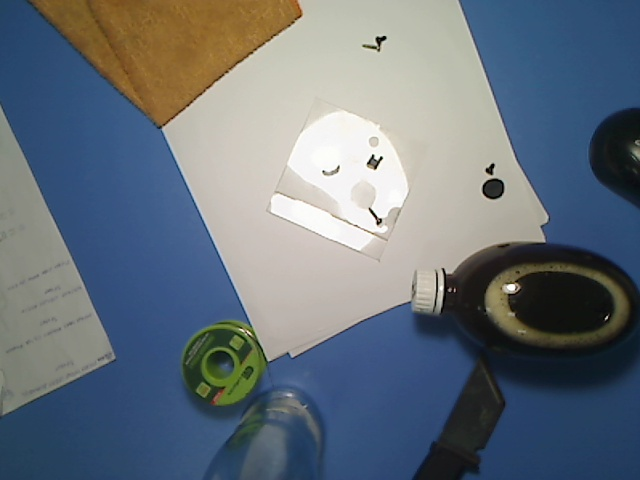plast_bottle: (407, 238, 640, 362)
